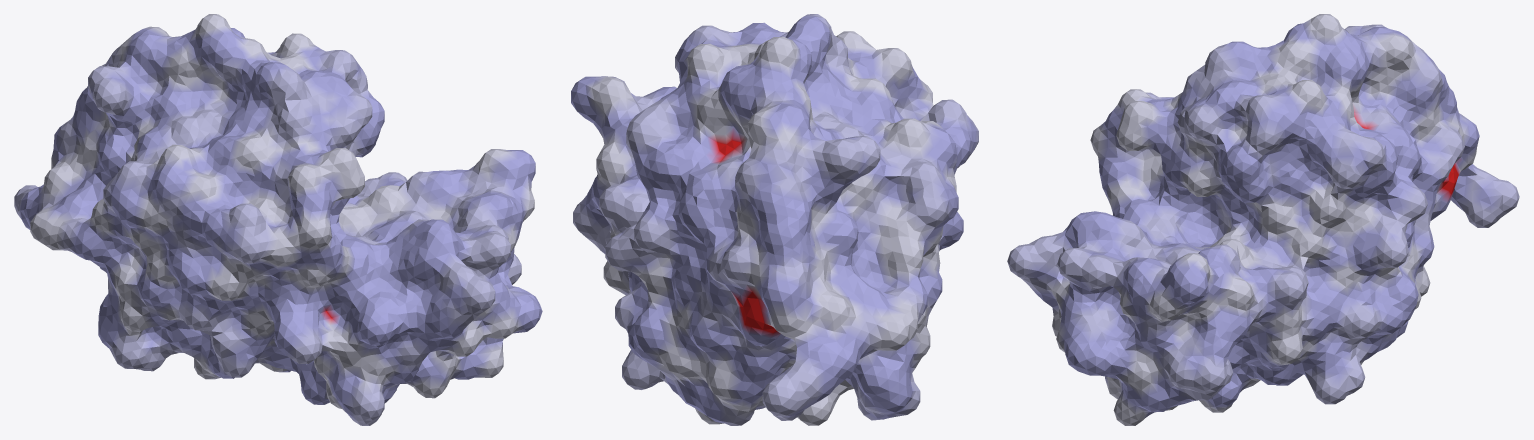
Rendered from 1lyz__surface__b-factor.glb.
The picture shows the model from 3 angles, left to right: view 1: azimuth 30°, elevation 25°; view 2: azimuth 150°, elevation 25°; view 3: azimuth 270°, elevation 25°; orthographic projection. The views are drawn at different scales.
Parts seen in each view (by area): view 1: Renderer Node; view 2: Renderer Node; view 3: Renderer Node.
Part boxes in pixels (box(x1,y1,x2,y2)): Renderer Node: box(14, 14, 542, 425); Renderer Node: box(571, 14, 978, 425); Renderer Node: box(1007, 14, 1519, 425).
Bounding box in the file's own units: 41.85 × 35.85 × 47.23.
